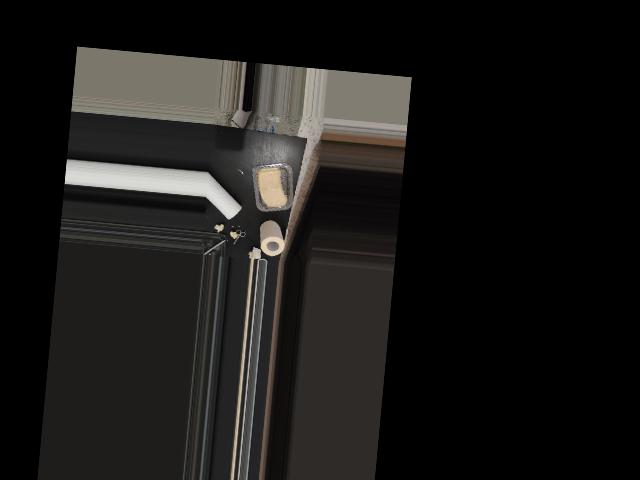cheese: (250, 160, 293, 213)
